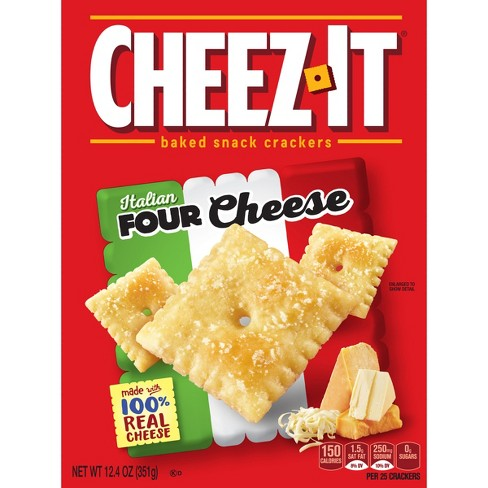cheese: (304, 344, 403, 430), (346, 370, 403, 422), (276, 405, 349, 442)
